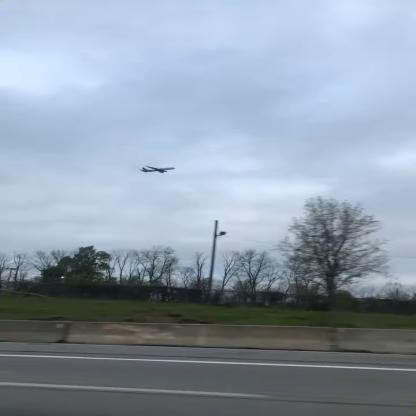plane: (136, 159, 185, 177)
